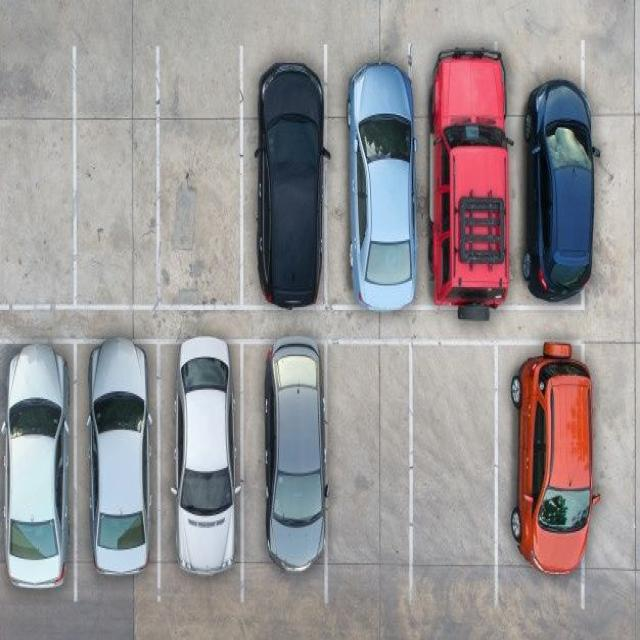cars: (428, 44, 514, 321), (509, 340, 600, 576), (254, 60, 329, 308), (346, 60, 417, 311), (0, 341, 70, 589), (521, 77, 598, 302), (170, 334, 240, 576), (86, 334, 152, 576), (263, 334, 328, 572)
